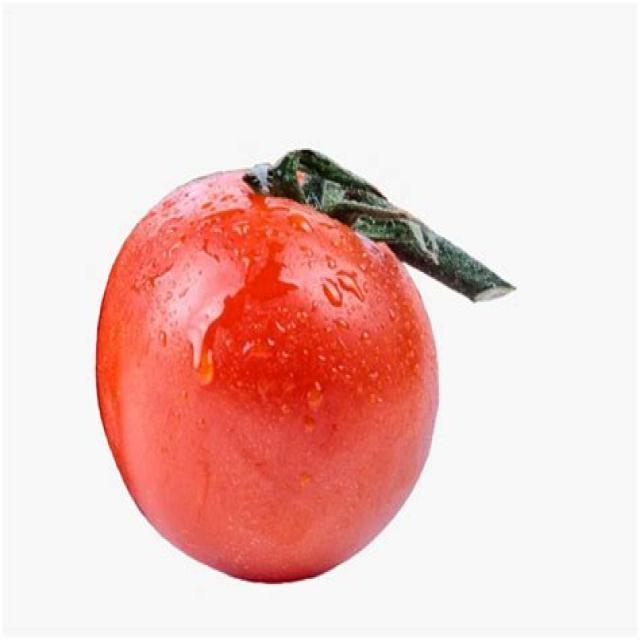Tomato: (95, 170, 441, 586)
